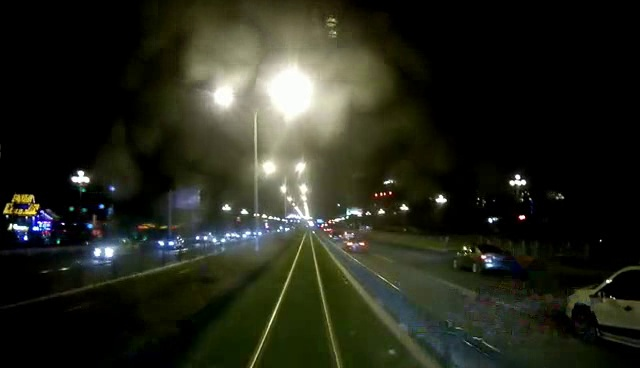car: (563, 265, 640, 348), (448, 239, 516, 277), (95, 237, 137, 259)
